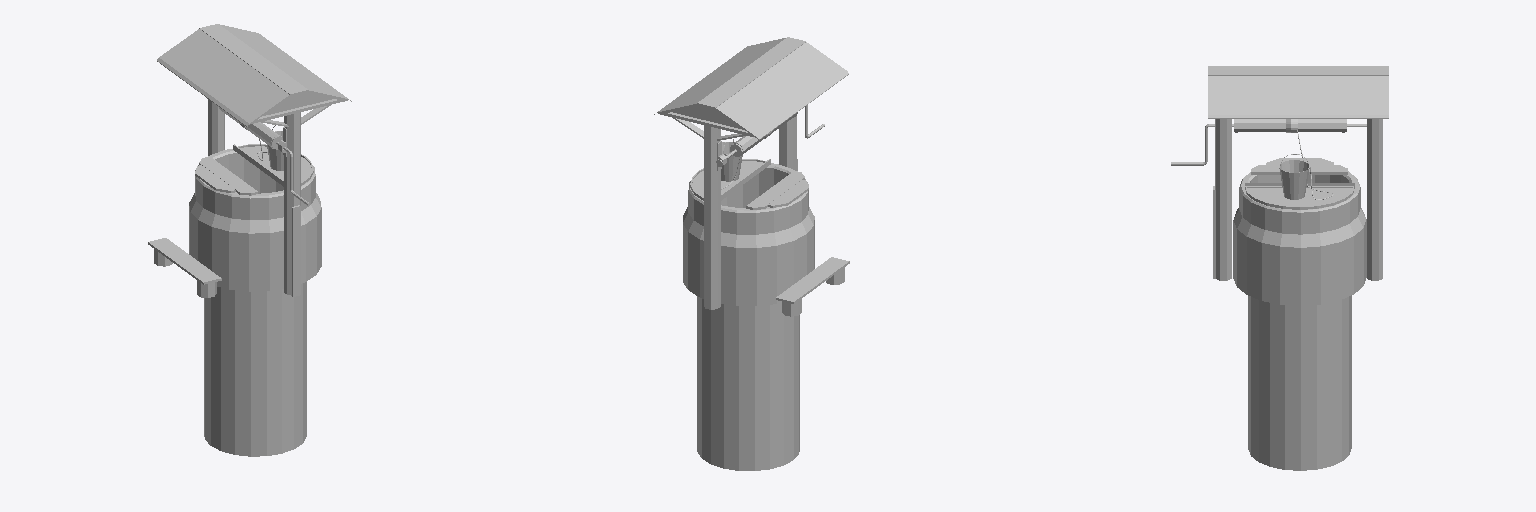
3 views of the same model, side by side, from view 1: azimuth 30°, elevation 25°; view 2: azimuth 150°, elevation 25°; view 3: azimuth 270°, elevation 25° (orthographic).
Visible parts, largest first — view 1: SM_weel; view 2: SM_weel; view 3: SM_weel.
Part boxes in pixels (x1,y1,x2,y2): SM_weel: (148, 24, 351, 456); SM_weel: (654, 37, 849, 470); SM_weel: (1171, 66, 1388, 470).
Bounding box in the file's own units: 1.68 × 4.51 × 2.35.